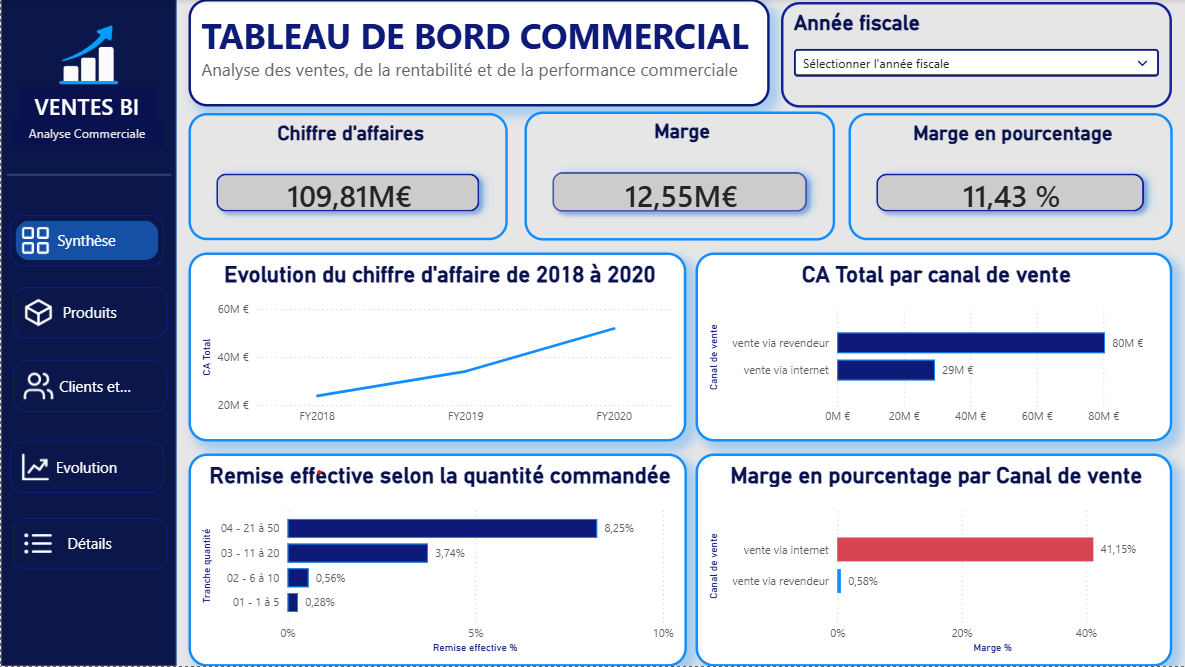

This screenshot's page, from the dashboard's own definition file:
{"tool":"powerbi","page":{"name":"01-Synthèse","canvas":[1280,720],"ordinal":0},"visuals":[{"type":"shape","box":[0,0,189.5,720.2],"z":0},{"type":"lineChart","title":"Evolution du chiffre d''affaire de 2018 à 2020","fields":{"Category":["Date_data.Fiscal Year"],"Y":["Mesure.CA Total"]},"box":[202.4,273.6,537.6,204],"z":1000},{"type":"clusteredBarChart","title":"CA Total par canal de vente ","fields":{"Category":["sales_data_modif.Canal de vente "],"Y":["Mesure.CA Total"]},"box":[749.7,273.6,514.9,204],"z":2000},{"type":"clusteredBarChart","title":"Marge en pourcentage par Canal de vente ","fields":{"Category":["sales_data_modif.Canal de vente "],"Y":["Mesure.Marge %"]},"box":[749.7,490.6,514.9,229.9],"z":3000},{"type":"clusteredBarChart","title":"Remise effective selon la quantité commandée","fields":{"Category":["sales_data_modif.Tranche quantité"],"Y":["Mesure.Remise effective %"]},"box":[201.8,490.4,538,229.9],"z":4000},{"type":"actionButton","box":[9.8,233.6,166.3,55],"z":5000},{"type":"actionButton","box":[12.2,310.6,166.3,55],"z":6000},{"type":"actionButton","box":[12.2,390.1,166,55],"z":7000},{"type":"actionButton","box":[9.8,478.1,166,55],"z":8000},{"type":"actionButton","box":[12.2,560.1,166,55],"z":9000},{"type":"textbox","box":[19.6,94.2,146.7,44],"z":10000},{"type":"textbox","box":[9.8,129.6,166.3,29.3],"z":11000},{"type":"shape","box":[6.1,183.4,177.3,13.5],"z":12000},{"type":"image","box":[0,0,189.5,119.8],"z":13000},{"type":"textbox","box":[201.8,0,627.3,116.2],"z":14000},{"type":"listSlicer","title":"Année fiscale","fields":{"Values":["Date_data.Fiscal Year"]},"box":[842.5,2.4,421.9,113.7],"z":15000},{"type":"cardVisual","title":"Chiffre d''affaires ","fields":{"Data":["Mesure.CA Total"]},"box":[202.4,123.1,344.9,137.6],"z":16000},{"type":"cardVisual","title":"Marge ","fields":{"Data":["Mesure.Marge"]},"box":[565.1,121.4,335.2,139.3],"z":17000},{"type":"cardVisual","title":"Marge en pourcentage","fields":{"Data":["Mesure.Marge %"]},"box":[914.9,123.1,349.8,137.6],"z":18000}]}

Visuals, with their boxes in screenshot pixels (x1, y1, x2, y2), scaled from the page's 1280x720 canvas onto the 1185x667 screenshot:
shape: 0, 0, 175, 666
"Evolution du chiffre d''affaire de 2018 à 2020" lineChart: 187, 253, 685, 442
"CA Total par canal de vente " clusteredBarChart: 694, 253, 1171, 442
"Marge en pourcentage par Canal de vente " clusteredBarChart: 694, 454, 1171, 666
"Remise effective selon la quantité commandée" clusteredBarChart: 187, 454, 685, 666
actionButton: 9, 216, 163, 267
actionButton: 11, 288, 165, 339
actionButton: 11, 361, 165, 412
actionButton: 9, 443, 163, 494
actionButton: 11, 519, 165, 570
textbox: 18, 87, 154, 128
textbox: 9, 120, 163, 147
shape: 6, 170, 170, 182
image: 0, 0, 175, 111
textbox: 187, 0, 768, 108
"Année fiscale" listSlicer: 780, 2, 1171, 108
"Chiffre d''affaires " cardVisual: 187, 114, 507, 242
"Marge " cardVisual: 523, 112, 833, 242
"Marge en pourcentage" cardVisual: 847, 114, 1171, 242
